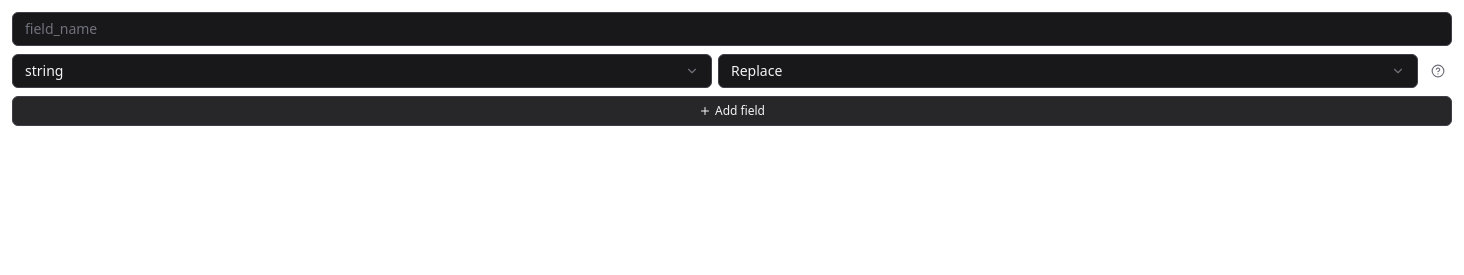
AddFieldForm smart defaults › auto-sets reducer to append when type is list
Click the dropdown named "Field type" at [44, 70], box x1=12 y1=54 x2=712 y2=88
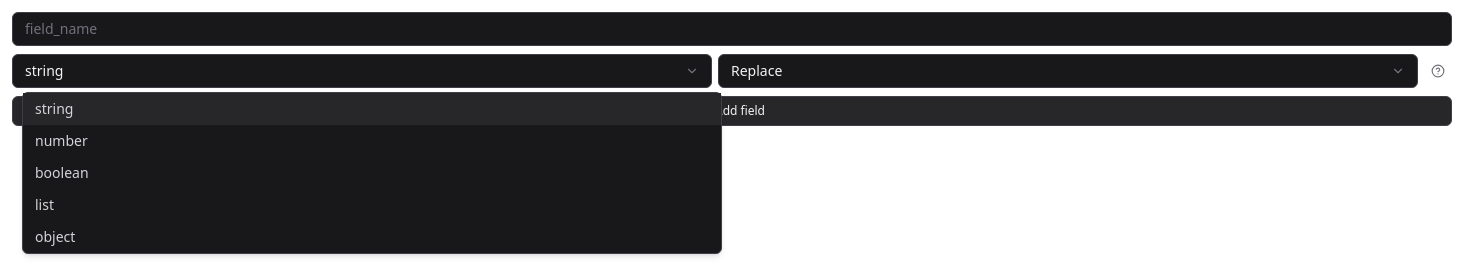
Click the option "list" at [44, 204], box x1=35 y1=195 x2=54 y2=214
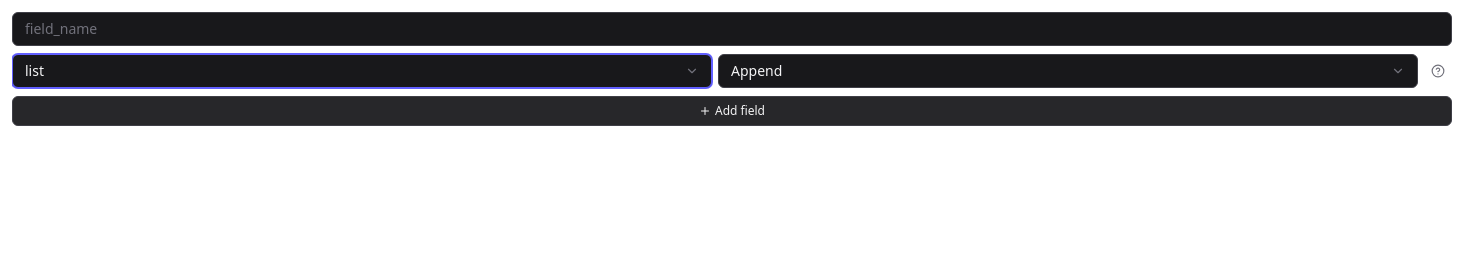
Expected: the dropdown named "When updated" reads "Append", x1=718 y1=54 x2=1418 y2=88
